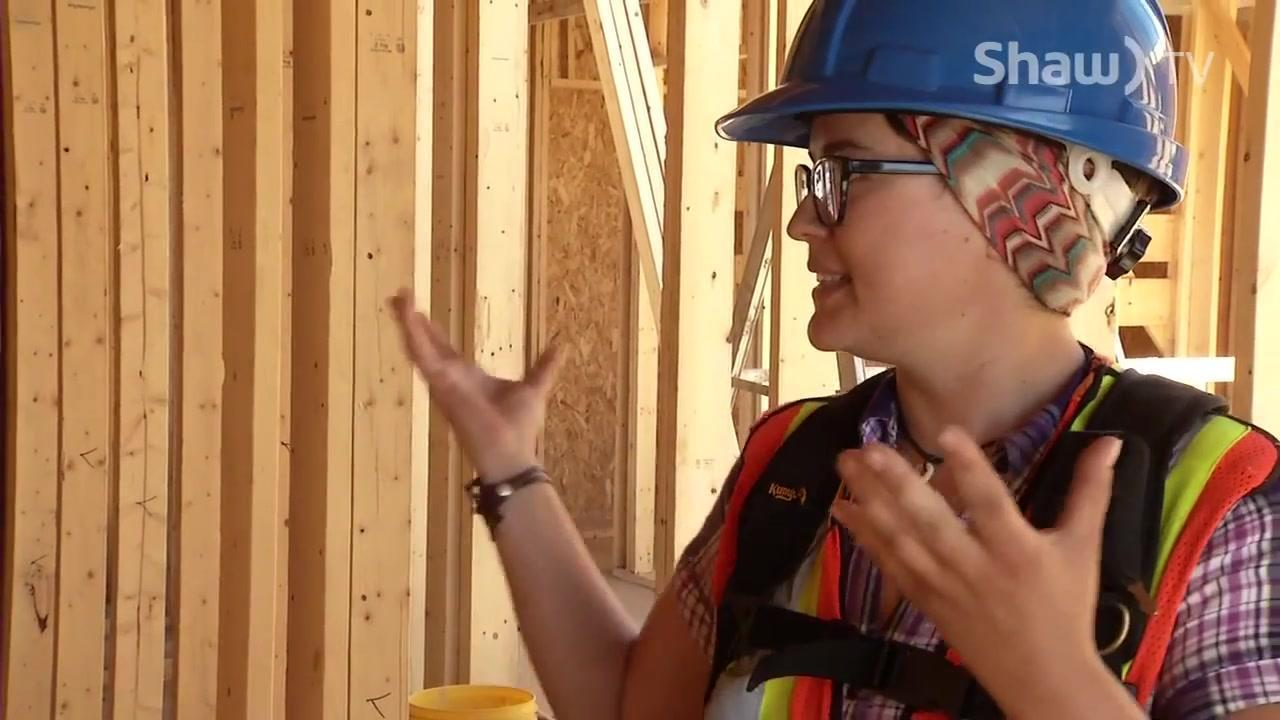vest: (700, 350, 1277, 719)
